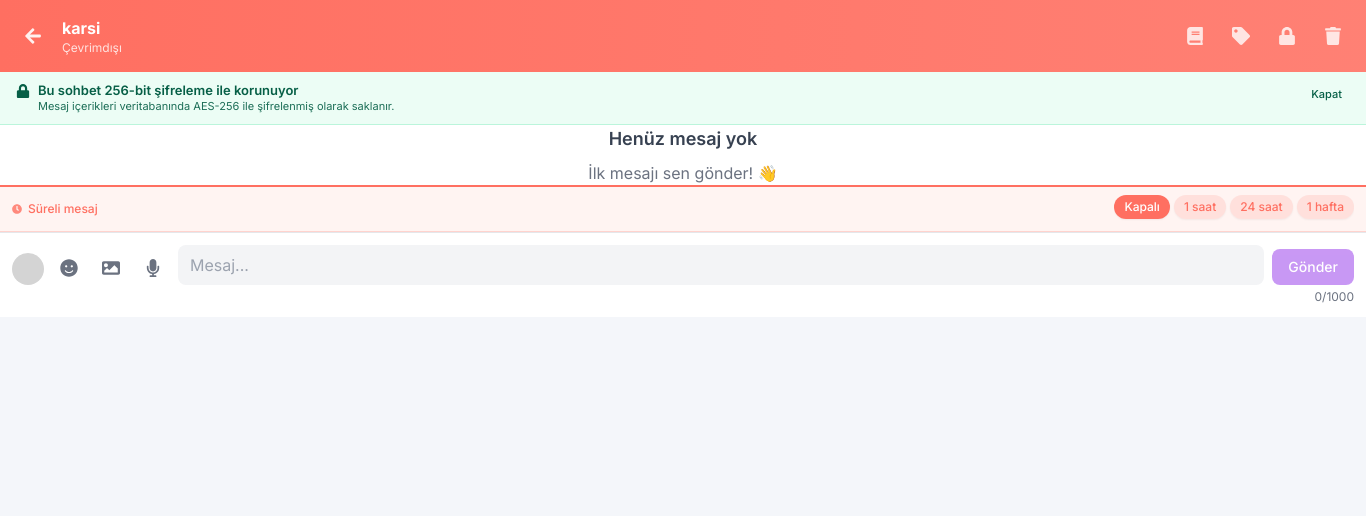
Test: ChatWindow gönderim: hata eşlemesi ve tekrar dene › aynı metni art arda göndermek iki AYRI kimlikle iki ayrı mesaj olarak gider
The width and height of the screenshot is (1366, 516).
Type "aynı" into the text box at (721, 265), box [178, 245, 1264, 285]
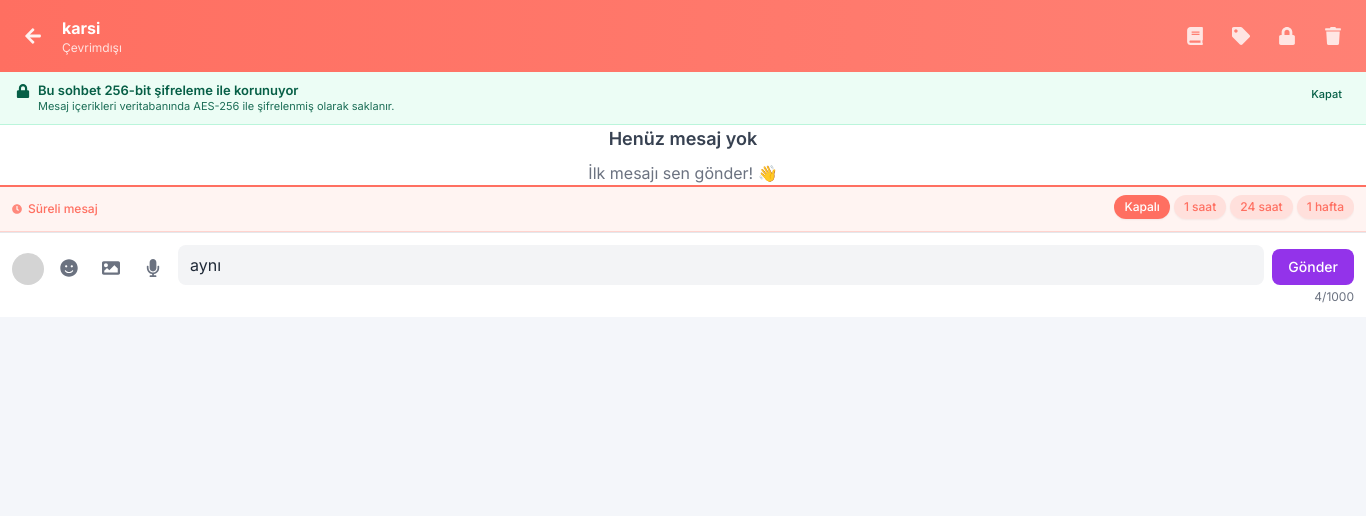
Press Enter in the text box, box [178, 245, 1264, 285]
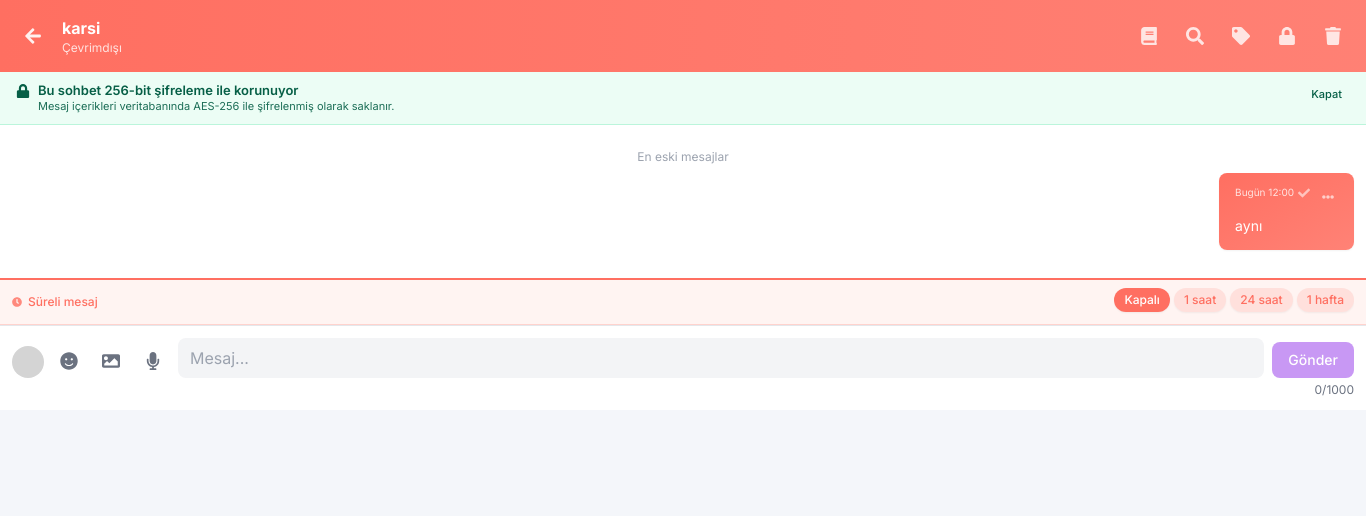
Type "aynı" into the text box at (721, 358), box [178, 338, 1264, 378]
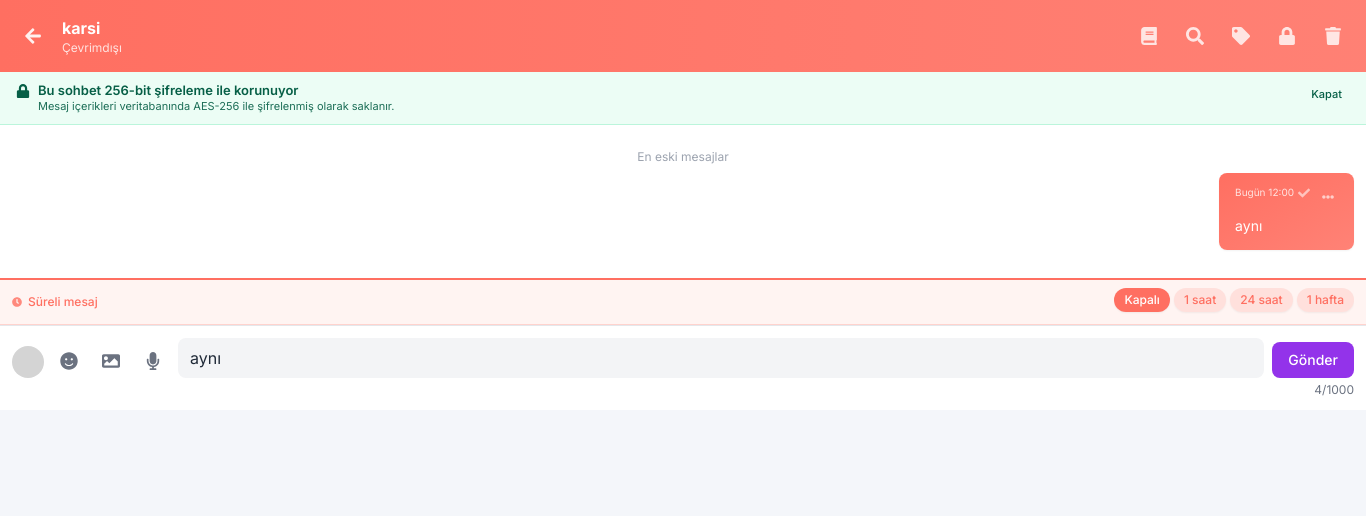
Press Enter in the text box, box [178, 338, 1264, 378]
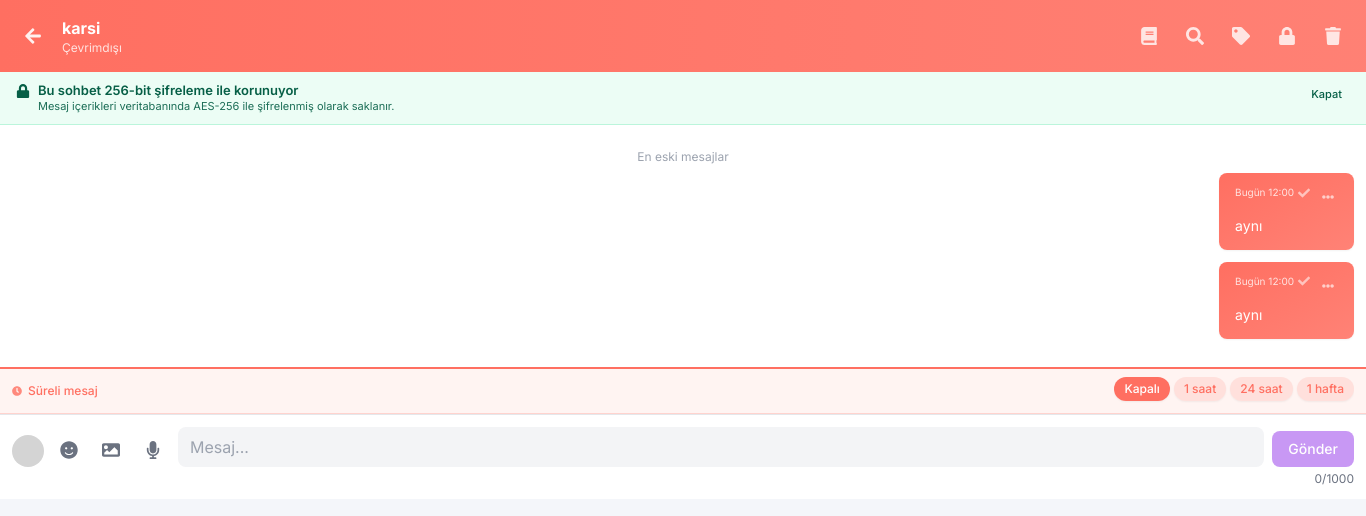
Check: the text "aynı" is shown 2 times, box [1235, 217, 1262, 234]; [1235, 306, 1262, 323]
